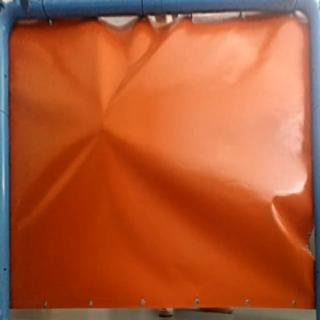Hit-hRxx: (96, 115, 113, 133)
